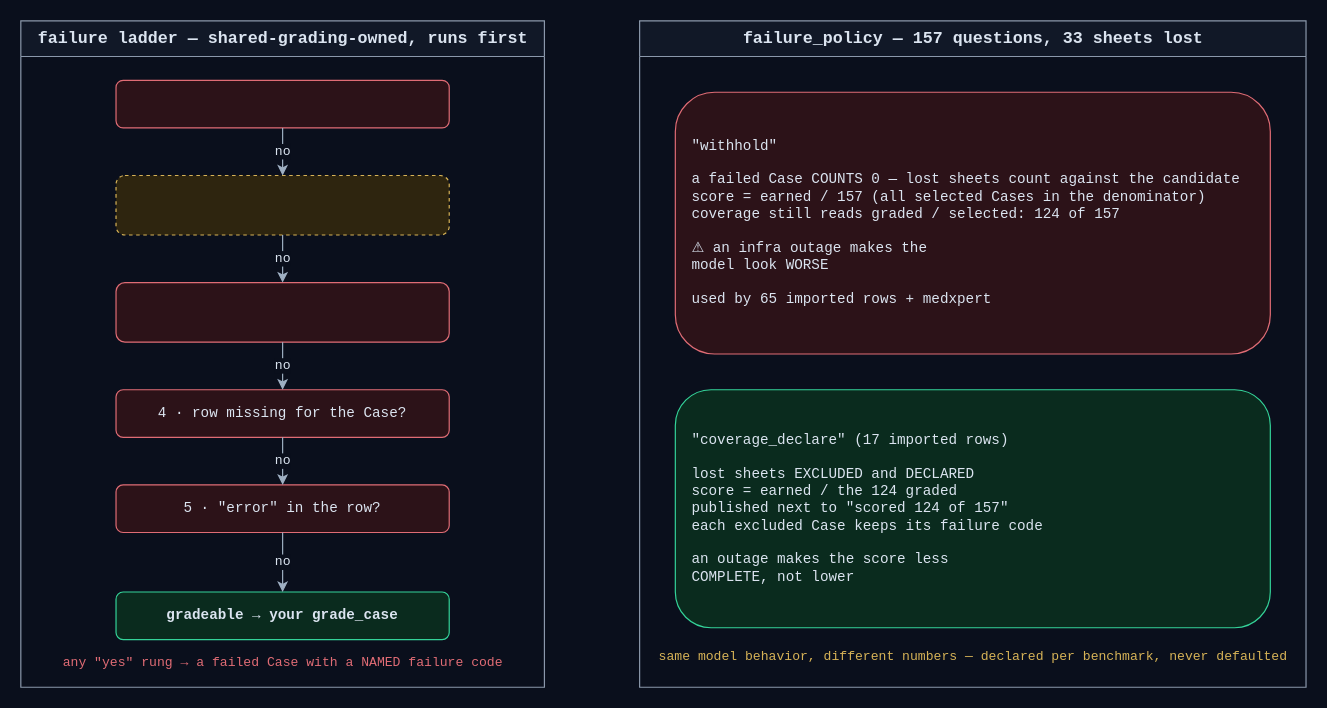
The diagram is 1327 pixels wide and 708 high, and some of its shapes have lost their labels. Each missing label, with the box of its shape:
1 · grading failure?: (115, 79, 449, 128)
2 · error_case_result hook (optional, benchmark-set): (115, 174, 449, 235)
3 · missing grading material? → missing_material_code: (115, 281, 449, 342)
